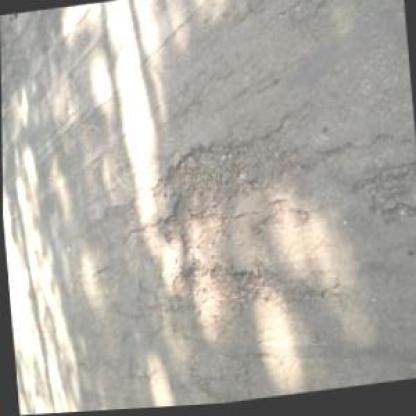pothole: (146, 139, 252, 265), (169, 258, 273, 319)
